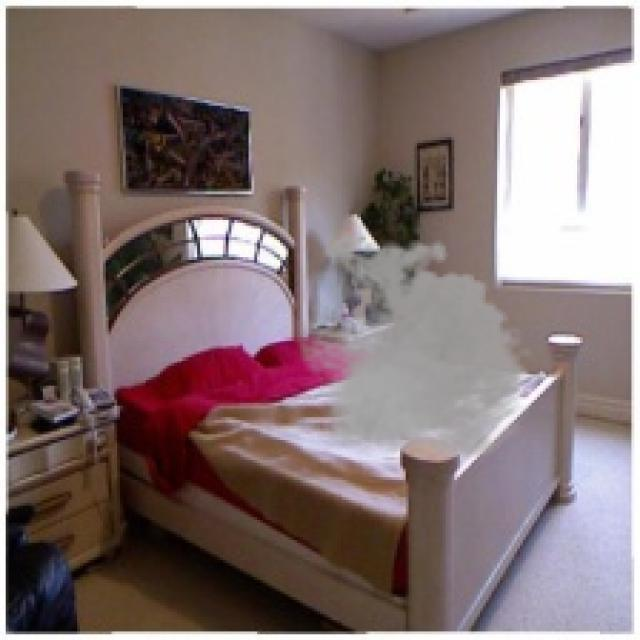Smoke: (283, 226, 540, 468)
